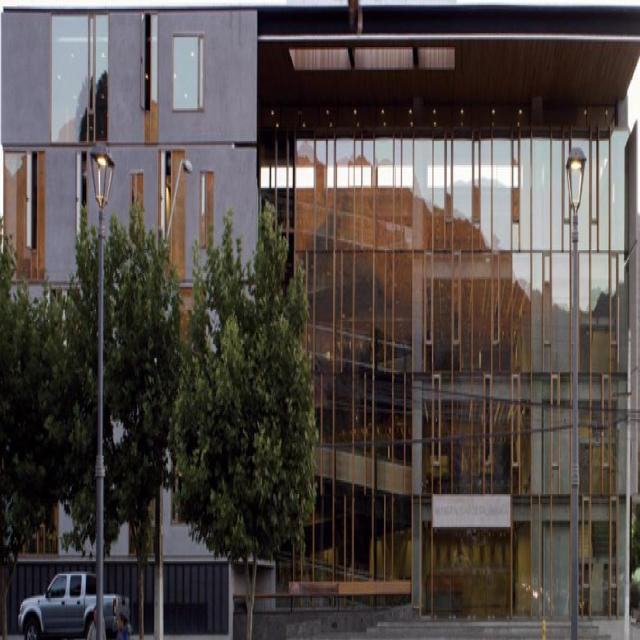window: (294, 130, 629, 625), (52, 16, 107, 143), (174, 37, 204, 111)
